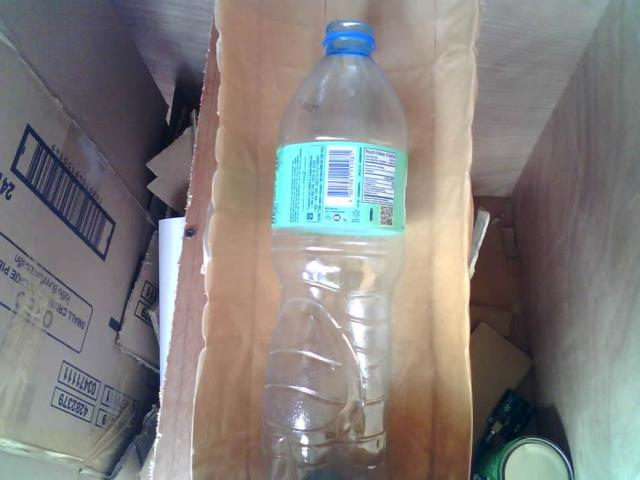large_bottle: (243, 12, 431, 480)
